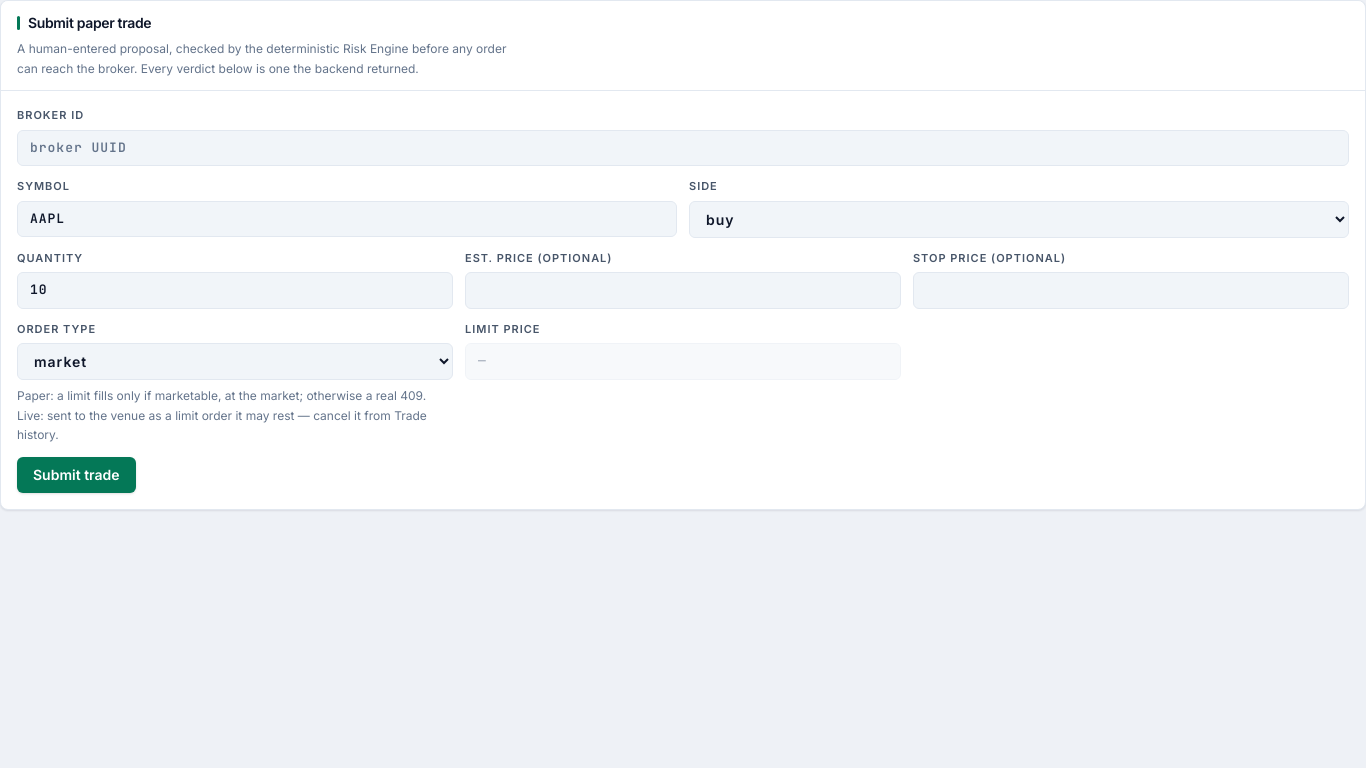
TradeForm › renders a rejected trade's block_reason legibly
This screenshot has width=1366, height=768.
Type "11111111-1111-1111-1111-111111111111" into the field labelled "Broker ID".
click(683, 148); type("11111111-1111-1111-1111-111111111111")  # box [17,130,1349,166]
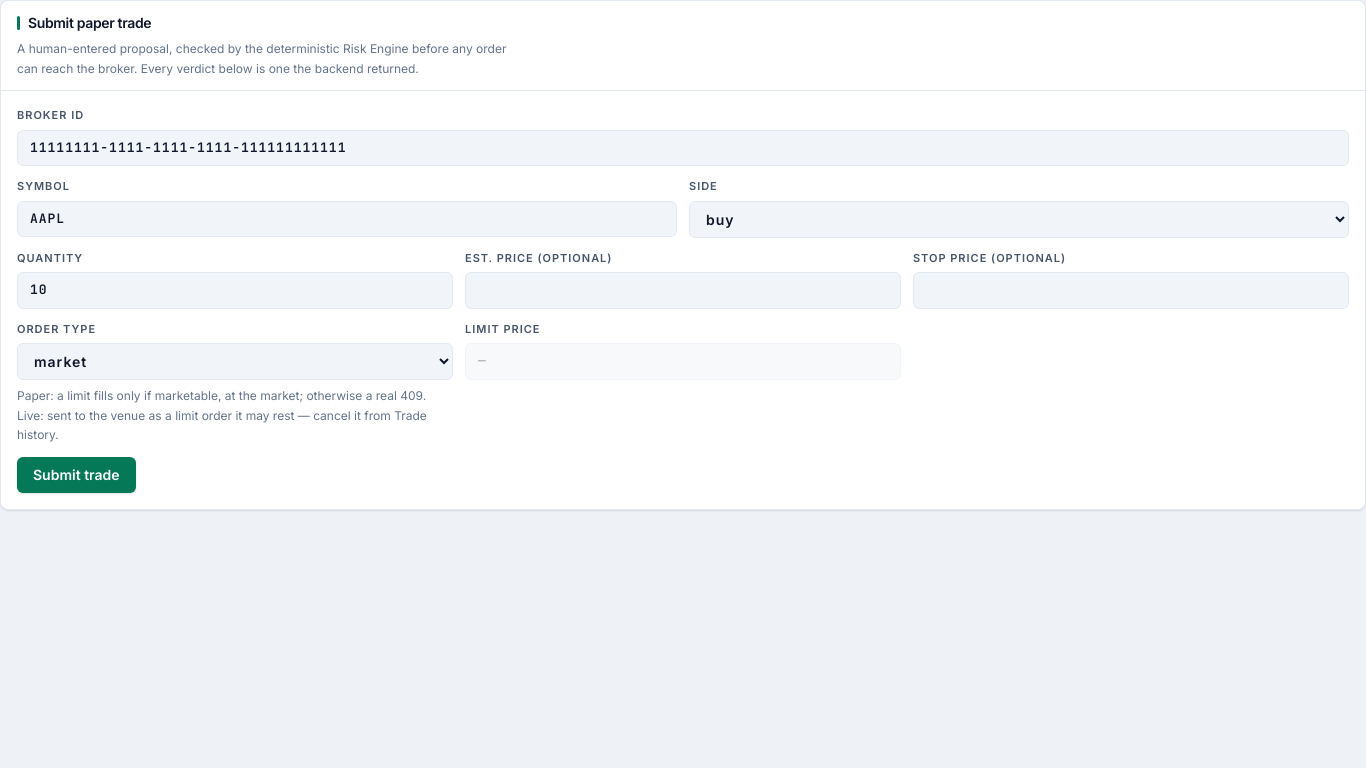
Click the button "Submit trade".
click(76, 475)  # box [17,457,136,493]
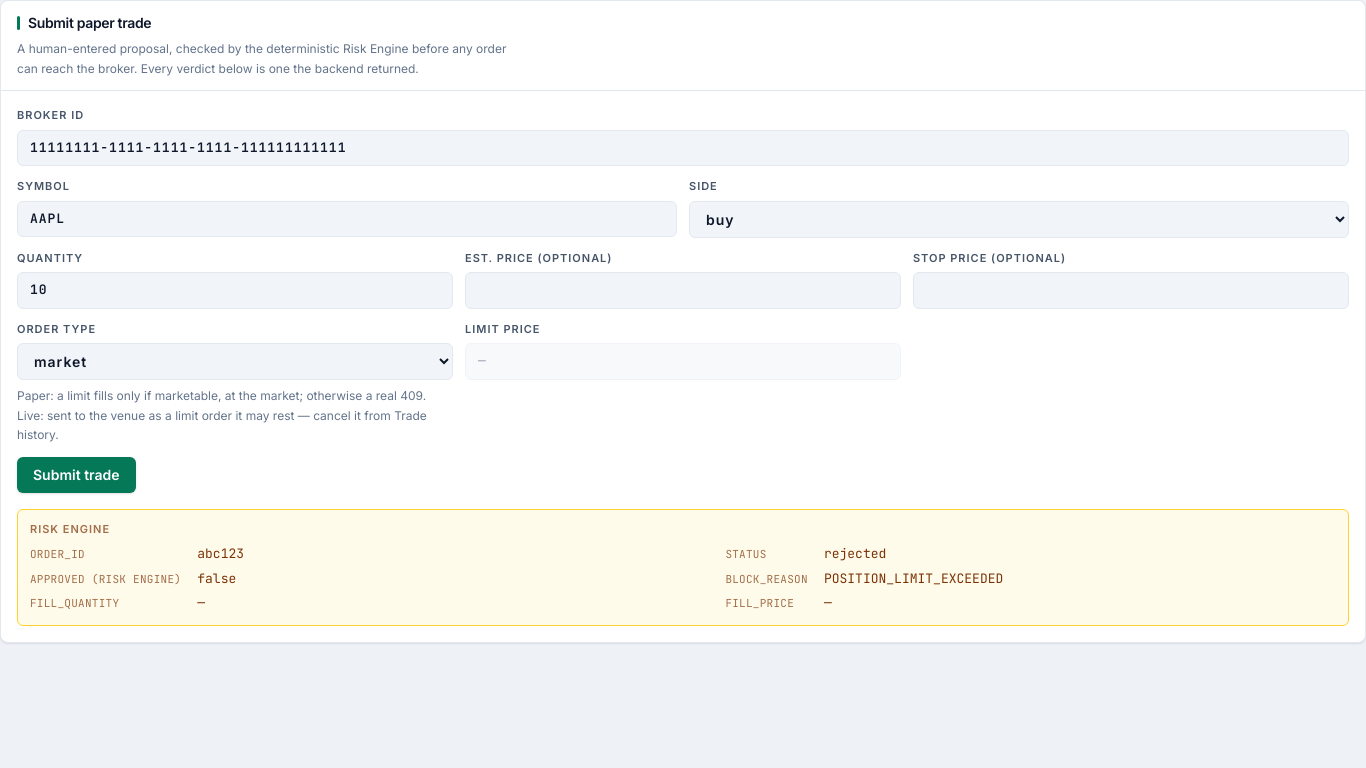
Check: the text "POSITION_LIMIT_EXCEEDED" is shown, box [824,570,1003,587]
Check: the text "rejected" is shown, box [824,545,886,562]
